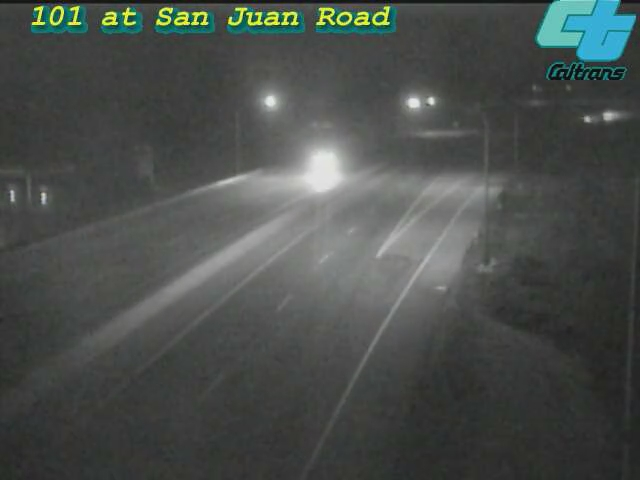vehicle: (285, 127, 365, 207), (585, 91, 635, 141)
